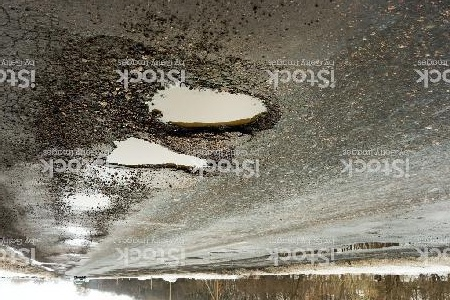pothole: (122, 74, 285, 141), (102, 136, 216, 177), (64, 190, 116, 215), (61, 224, 106, 239), (61, 239, 98, 250)
